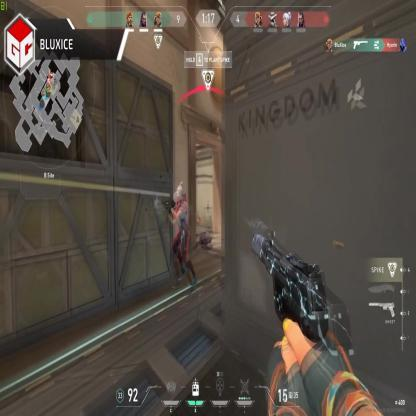enemy: (171, 186, 194, 282)
enemy_head: (176, 184, 184, 200)
